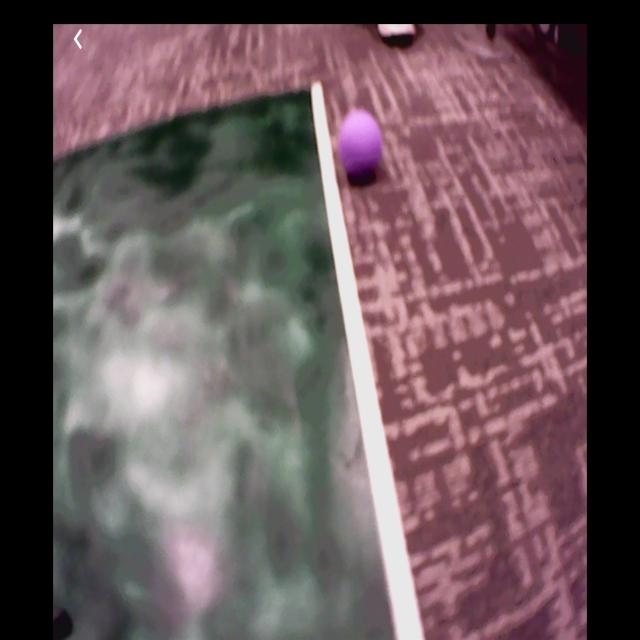ball: (340, 110, 382, 178)
